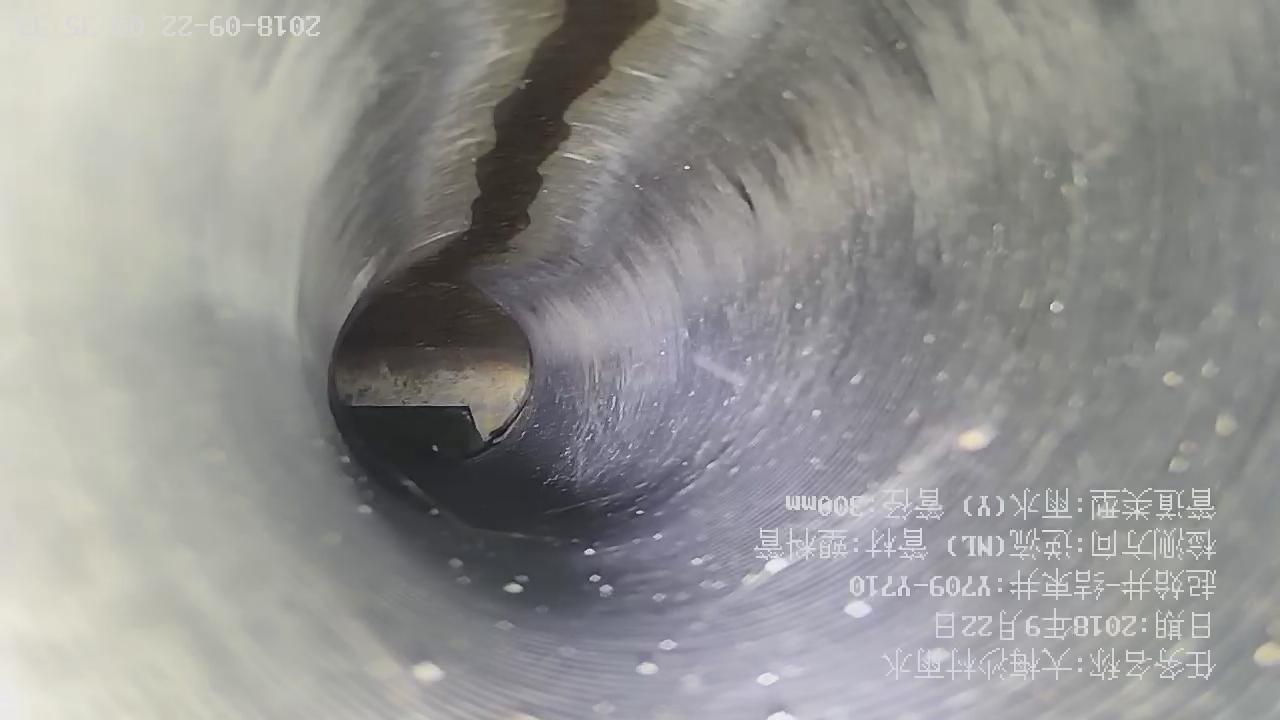YWCR: (333, 343, 531, 451)
